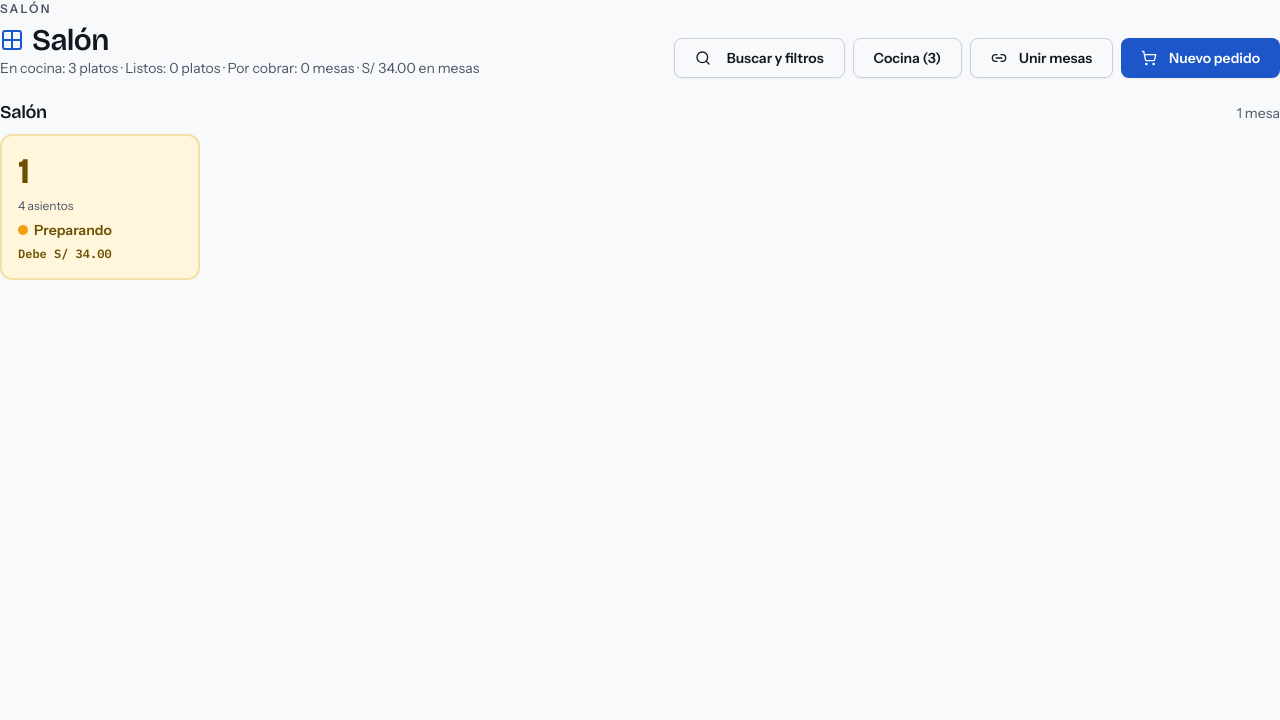
Test: pedido por personas en el salón › el recibo de la mesa se abre desde el resumen cuando hay varias cuentas
Click the element with test id "mesa-card-1". click: (100, 207)
box: [0,134,200,280]
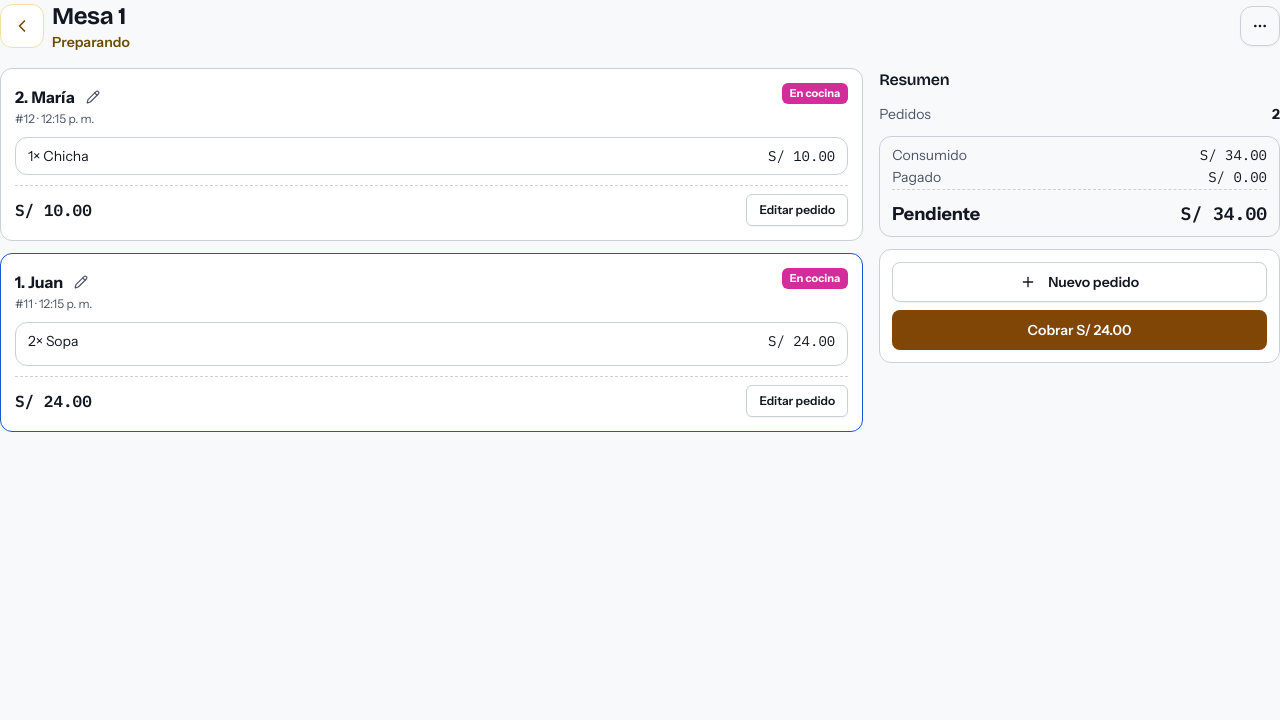
Click the button with test id "mesa-sheet-mas". click: (1260, 26)
box: [1240,6,1279,46]
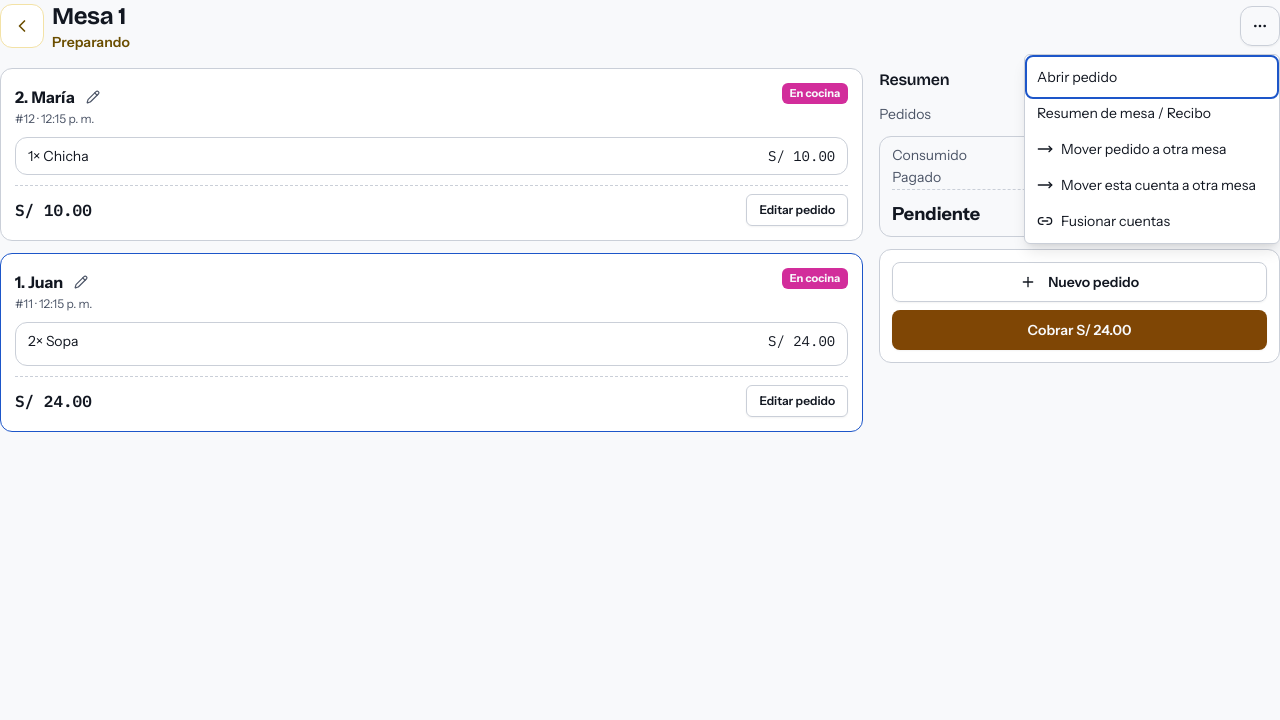
Click the menu item with test id "mesa-sheet-ver-resumen". click: (1152, 113)
box: [1029,95,1275,131]
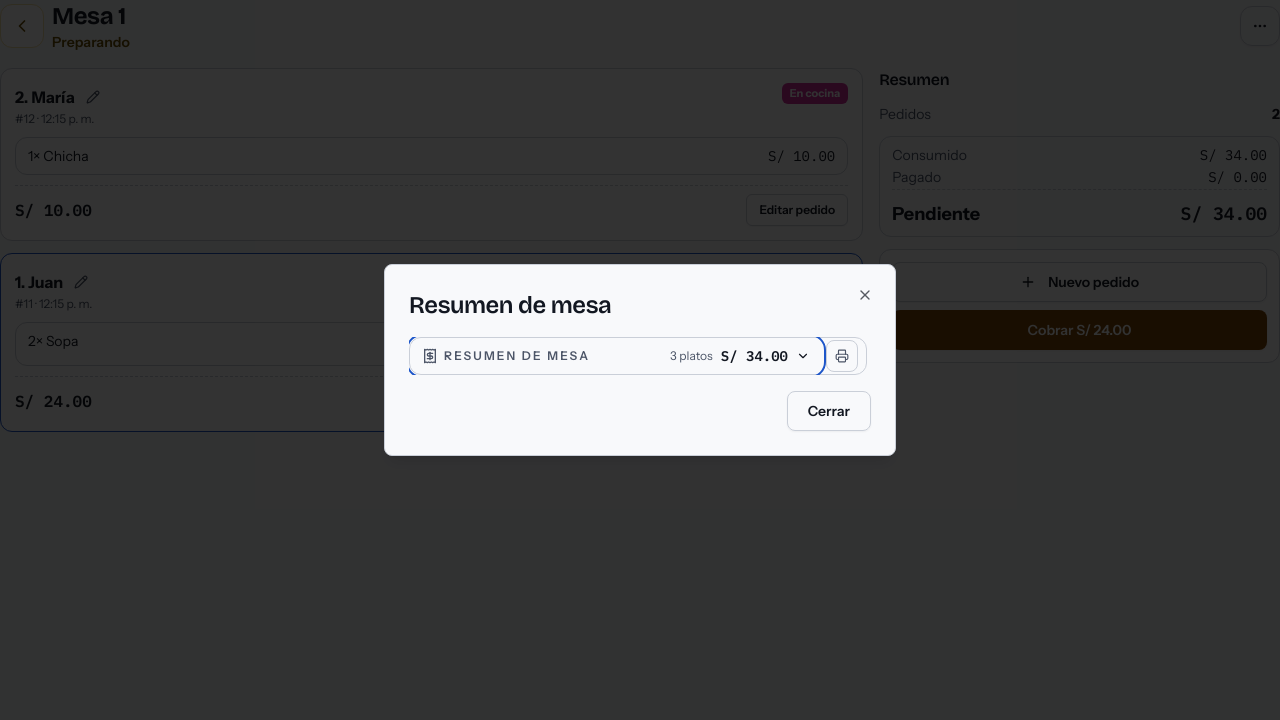
Click the button with test id "mesa-sheet-ver-recibo". click: (842, 356)
box: [826,340,858,372]
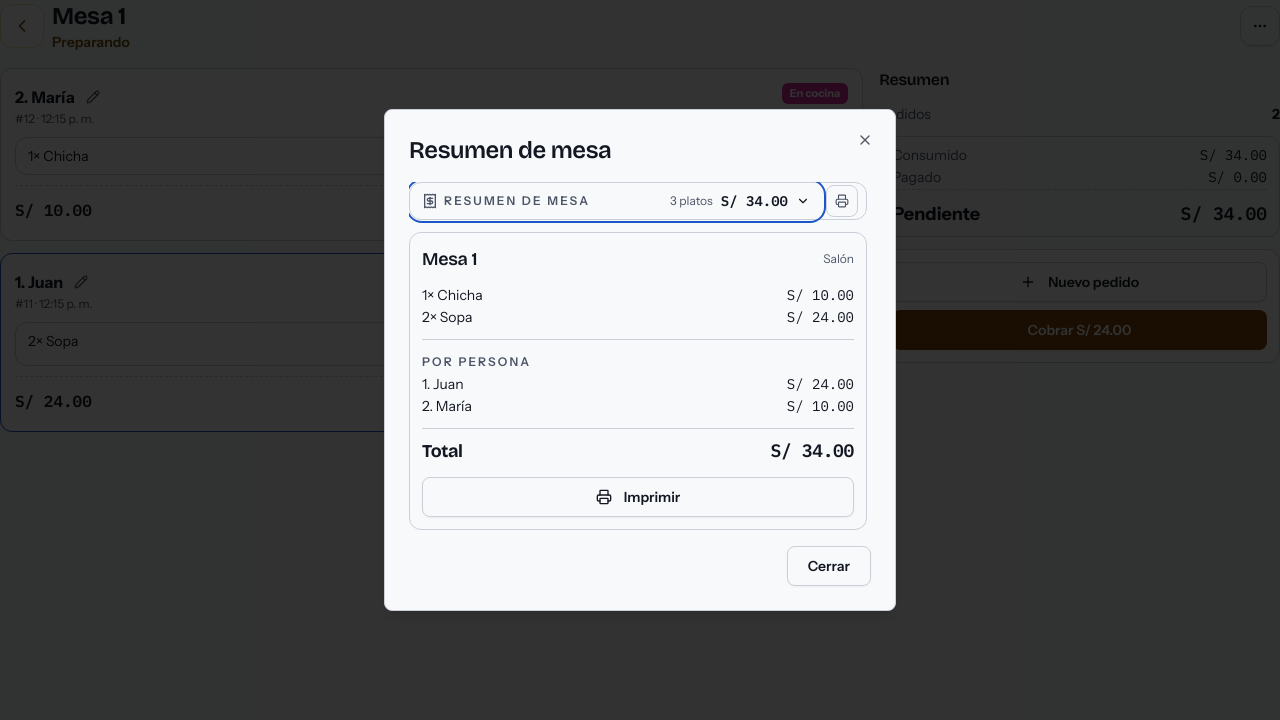
Now the element with test id "mesa-sheet-recibo" is shown, box [409,232,867,530]
Now the element with test id "mesa-sheet-recibo" shows "2× Sopa", box [422,308,472,326]
Now the element with test id "mesa-sheet-recibo" shows "Por persona", box [422,354,531,369]
